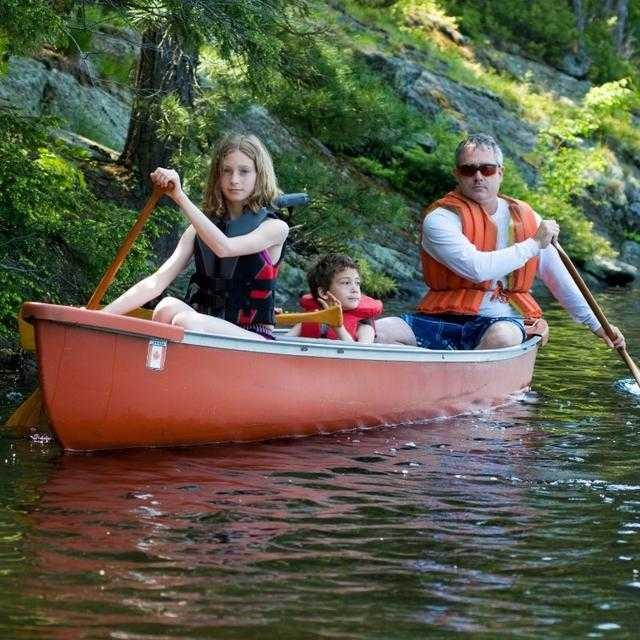kayak: (20, 298, 548, 451)
